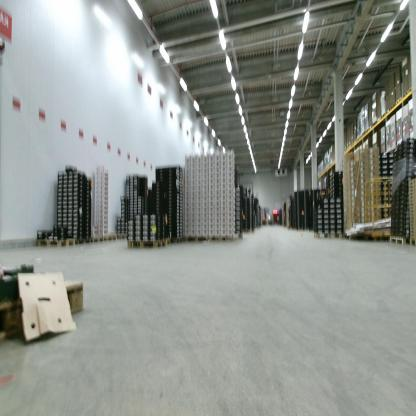pallet: (0, 275, 83, 346), (37, 235, 76, 248), (127, 237, 165, 248), (209, 233, 237, 244), (389, 235, 410, 246), (311, 231, 344, 238), (170, 234, 186, 246), (74, 236, 91, 246), (184, 235, 208, 242), (103, 233, 118, 243), (89, 234, 103, 243), (409, 236, 416, 249), (166, 236, 173, 247)
